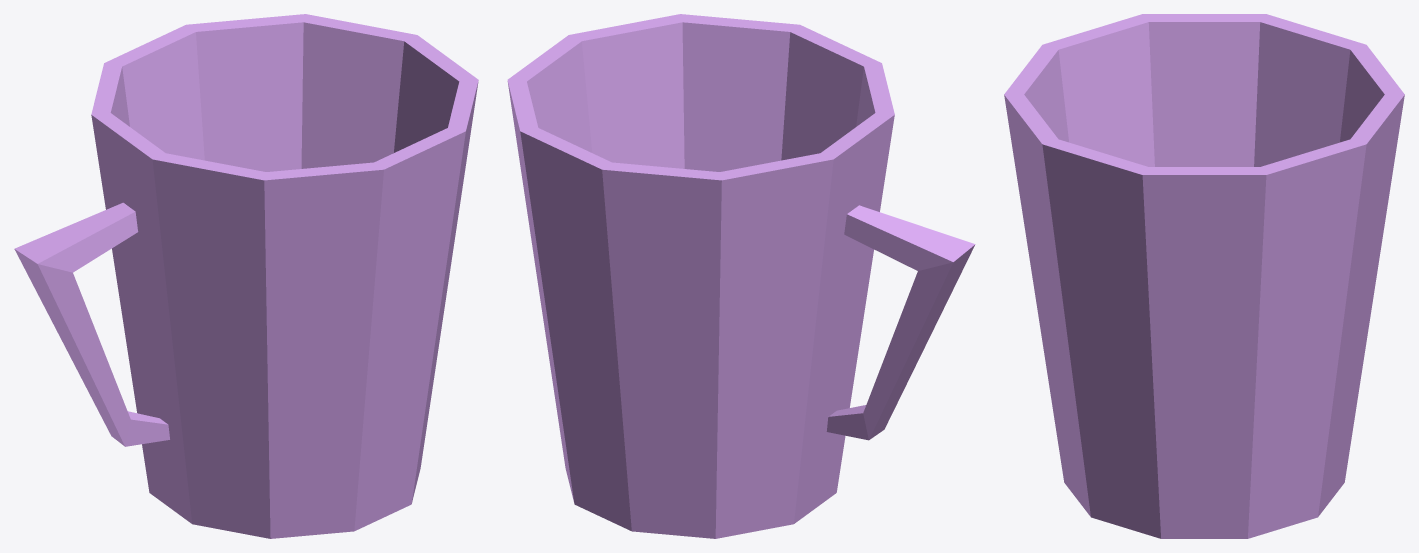
The model's file is cup2.fbx.
3 views of the same model, side by side, from view 1: azimuth 30°, elevation 25°; view 2: azimuth 150°, elevation 25°; view 3: azimuth 270°, elevation 25° (orthographic).
Parts seen in each view (by area): view 1: Cylinder; view 2: Cylinder; view 3: Cylinder.
Part boxes in pixels (x1,y1,x2,y2): Cylinder: (14, 14, 478, 538); Cylinder: (507, 14, 975, 538); Cylinder: (1004, 14, 1404, 538).
Size of the model in its own units: 1.15 by 0.9908 by 0.9274.
